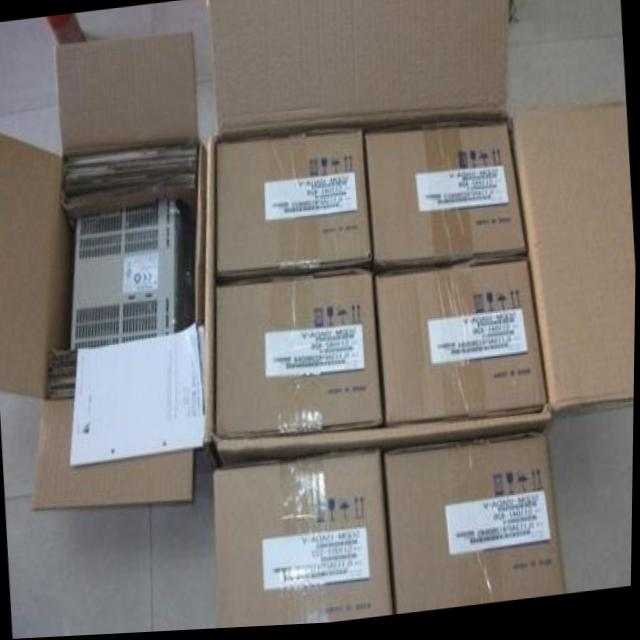box: (213, 454, 397, 631), (386, 438, 566, 616), (376, 264, 548, 430), (218, 275, 384, 439), (217, 132, 372, 279), (365, 129, 527, 268)
